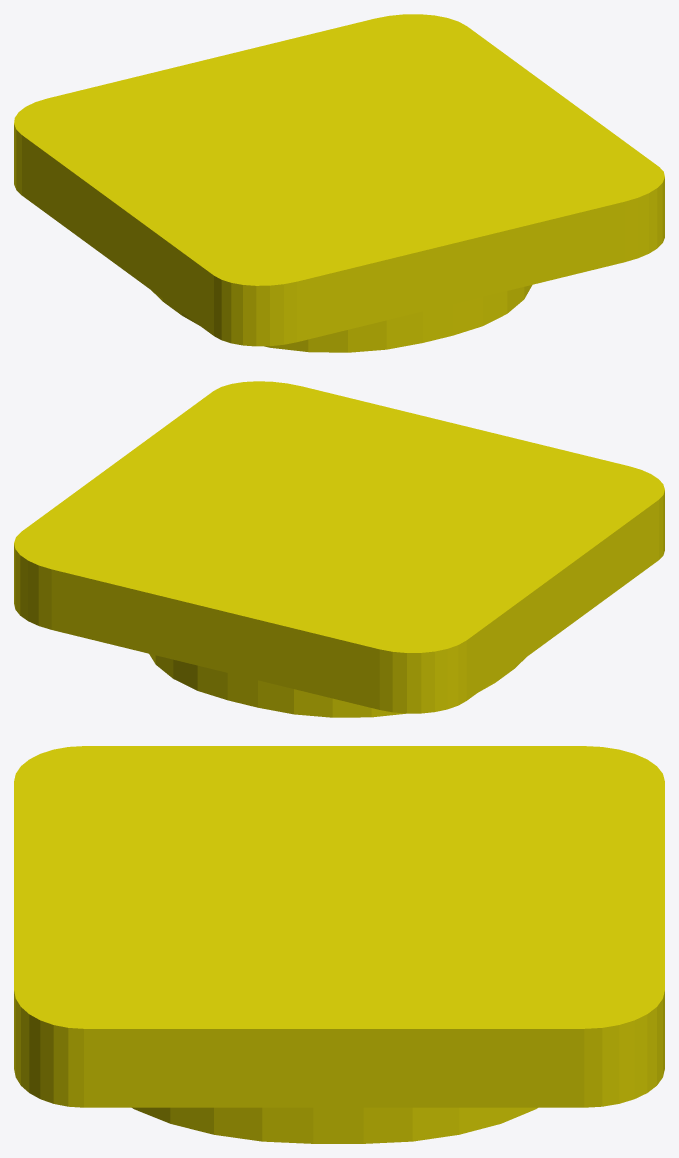
File: ceilinglightEnvironmental.fbx
3 views of the same model, one above another, from view 1: azimuth 30°, elevation 25°; view 2: azimuth 150°, elevation 25°; view 3: azimuth 270°, elevation 25° (orthographic). The views are drawn at different scales.
Visible parts, largest first — view 1: Cube; view 2: Cube; view 3: Cube.
Part boxes in pixels (<box>): Cube: <box>14,14,664,352</box>; Cube: <box>14,381,664,717</box>; Cube: <box>14,746,664,1143</box>.
Bounding box in the file's own units: 405 × 113 × 394.
